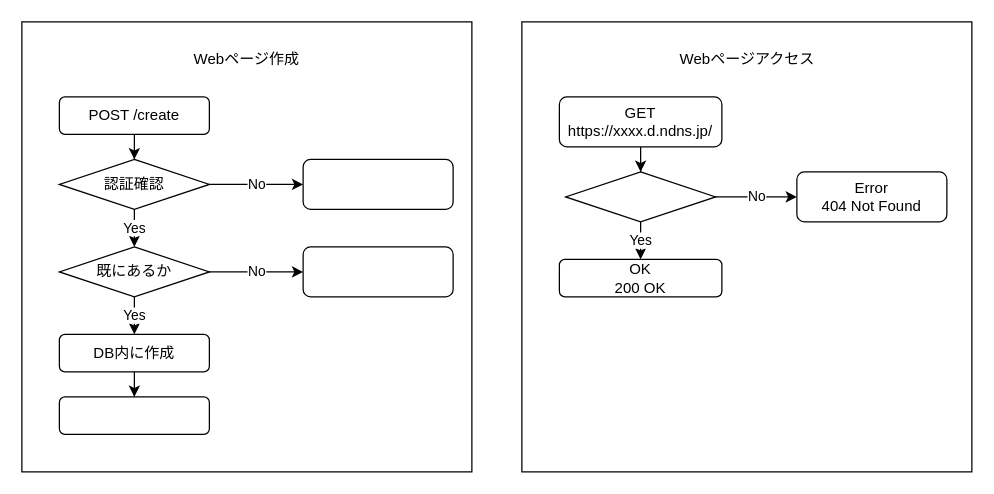
Some shapes in this 994 by 494 pixel diagram are drawn without their labels. Here are the shapes that lost their labels. From the top down, the box of each, then its label:
(302, 158, 453, 209): Error 401 Unauthorized
(564, 171, 716, 222): xのサイトがあるか
(302, 246, 453, 297): Error 400 Bad Request
(58, 396, 209, 434): OK 201 Created
